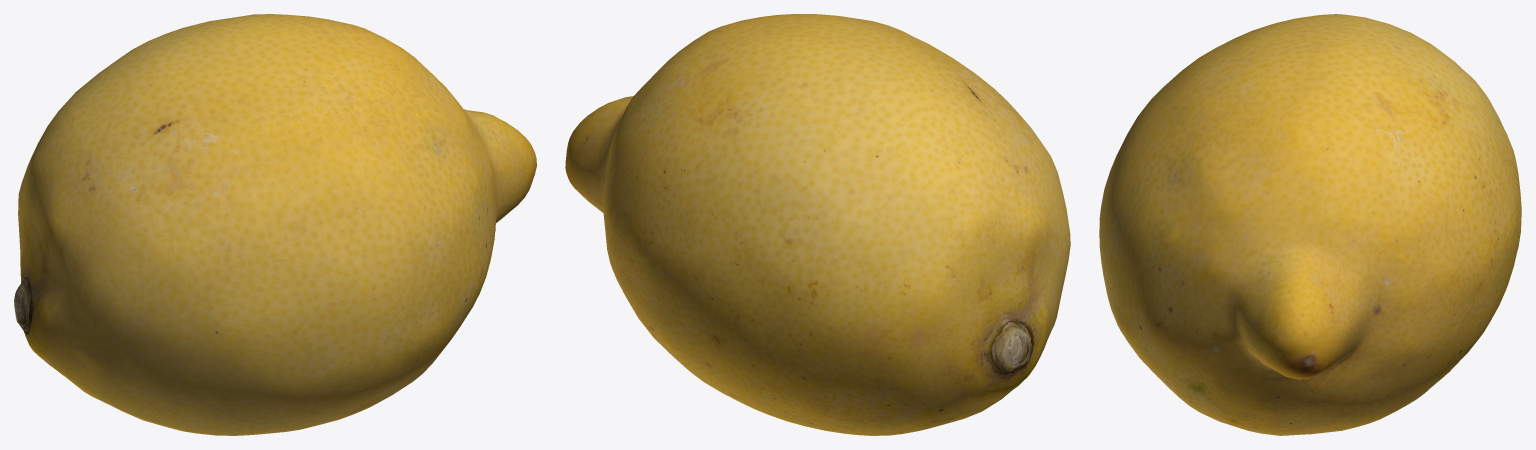
File: SM_Lemon.fbx
The picture shows the model from 3 angles, left to right: view 1: azimuth 30°, elevation 25°; view 2: azimuth 150°, elevation 25°; view 3: azimuth 270°, elevation 25°; orthographic projection.
Visible parts, largest first — view 1: Lemon_th5jddwva_LOD0; view 2: Lemon_th5jddwva_LOD0; view 3: Lemon_th5jddwva_LOD0.
Part boxes in pixels (x1,y1,x2,y2): Lemon_th5jddwva_LOD0: (14,14,536,435); Lemon_th5jddwva_LOD0: (565,14,1070,435); Lemon_th5jddwva_LOD0: (1099,14,1521,435).
Size of the model in its own units: 6.83 by 5 by 5.2.
1 material, 1 textured.
